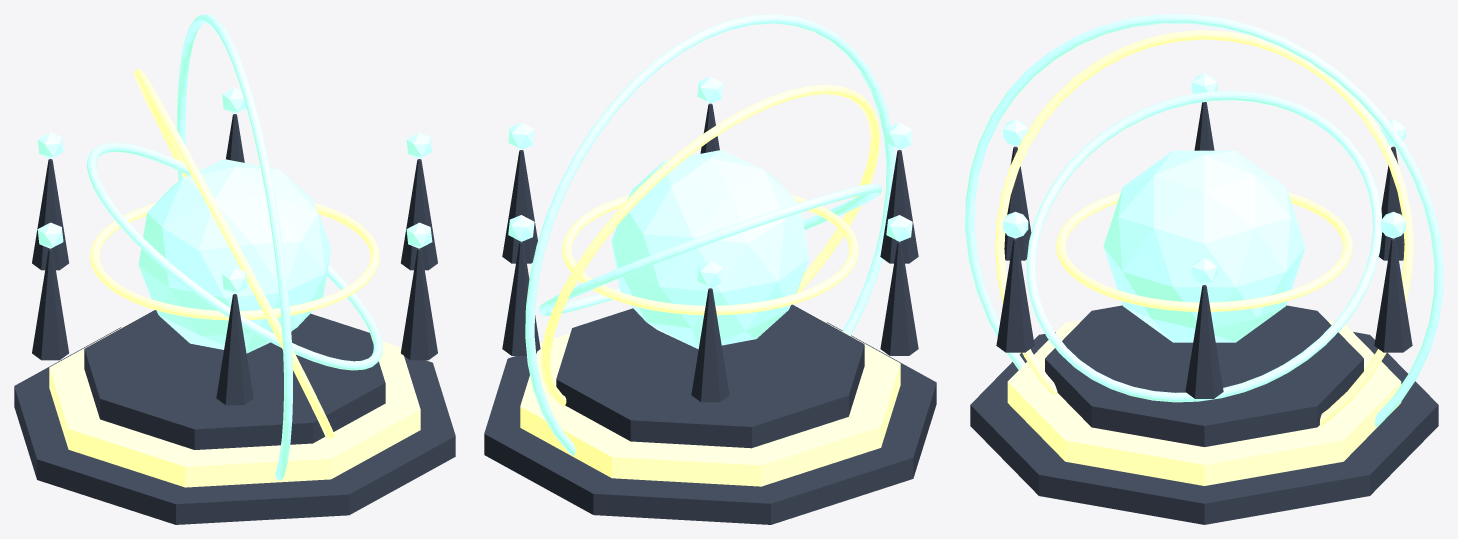
Rendered from gpu-blender-v57.glb.
3 renders of one model, left to right at view 1: azimuth 30°, elevation 25°; view 2: azimuth 150°, elevation 25°; view 3: azimuth 270°, elevation 25°, orthographic. The views are drawn at different scales.
Visible parts, largest first — view 1: Cylinder.002, Cylinder, SovereignCore_promptmaster-studio, Cylinder.001, Torus.003, Torus.001, Torus.002, Torus, Cone.004, Cone.003, Cone.005, Cone.002 (+7 smaller); view 2: Cylinder.002, SovereignCore_promptmaster-studio, Cylinder, Cylinder.001, Torus.003, Torus.002, Torus.001, Torus, Cone.002, Cone.003, Cone.001, Cone.004 (+7 smaller); view 3: SovereignCore_promptmaster-studio, Cylinder.002, Cylinder, Cylinder.001, Torus.003, Torus.001, Torus.002, Torus, Cone.001, Cone.005, Cone, Cone.004 (+3 smaller).
Boxes of the visible parts, x1,y1,x2,y2 form: Cylinder.002: (84,310,385,449); Cylinder: (14,327,455,524); SovereignCore_promptmaster-studio: (138,159,331,353); Cylinder.001: (49,318,420,487); Torus.003: (177,14,292,480); Torus.001: (87,142,382,370); Torus.002: (134,69,334,438); Torus: (90,203,379,320); Cone.004: (216,294,253,405); Cone.003: (32,249,68,360); Cone.005: (401,249,437,360); Cone.002: (32,159,68,270); Cylinder.002: (556,304,864,448); SovereignCore_promptmaster-studio: (611,150,809,349); Cylinder: (484,322,936,524); Cylinder.001: (520,313,900,486); Torus.003: (525,14,895,455); Torus.002: (541,84,879,406); Torus.001: (539,183,881,315); Torus: (562,195,858,315); Cone.002: (691,288,729,402); Cone.003: (880,242,918,355); Cone.001: (502,242,540,355); Cone.004: (880,150,918,263); SovereignCore_promptmaster-studio: (1103,150,1305,342); Cylinder.002: (1045,305,1363,446); Cylinder: (970,332,1438,524); Cylinder.001: (1007,320,1401,485); Torus.003: (965,14,1443,427); Torus.001: (1026,91,1382,402); Torus.002: (995,30,1413,426); Torus: (1056,192,1352,311); Cone.001: (1374,239,1412,352); Cone.005: (996,239,1034,352); Cone: (1185,285,1223,398); Cone.004: (1004,146,1031,260).
Size of the model in its own units: 4.41 by 4.7 by 4.49.
